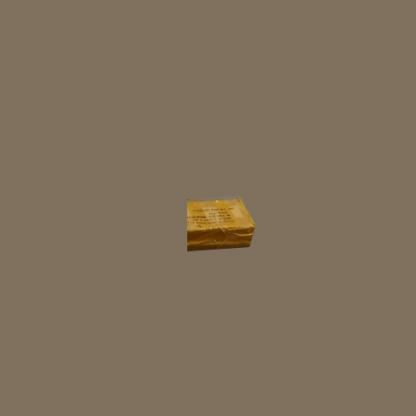package: (187, 202, 254, 250)
